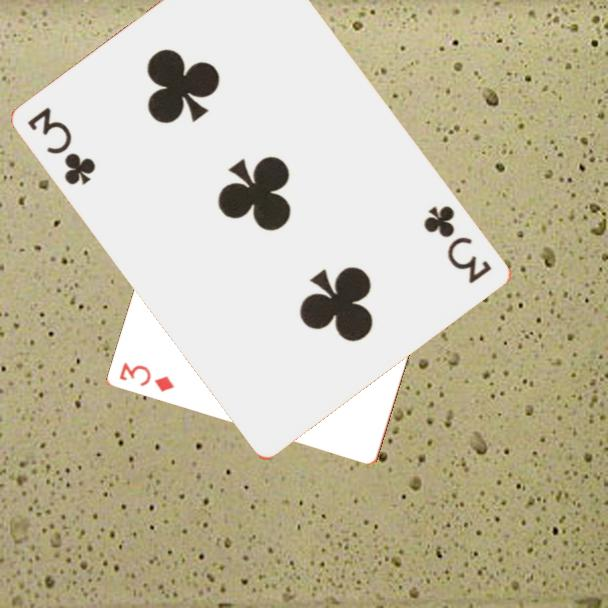c03: (24, 103, 100, 189), (420, 202, 496, 287)
d03: (116, 359, 177, 395)
